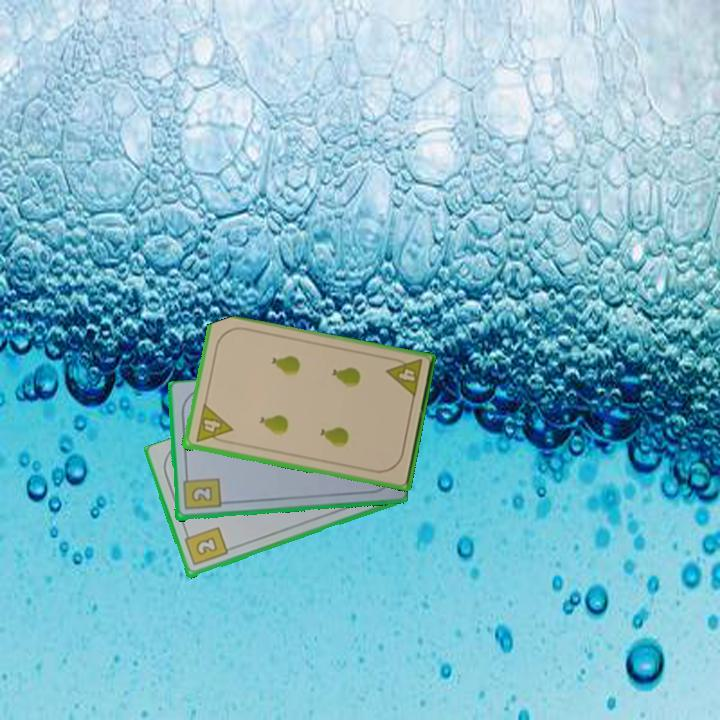2b: (181, 524, 230, 569), (179, 471, 223, 513)
4p: (382, 354, 425, 400), (192, 402, 234, 447)
